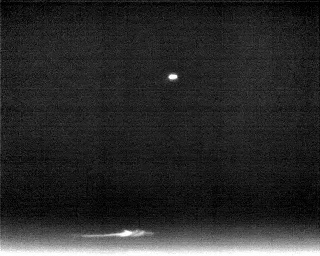AIRPLANE: (166, 71, 180, 83)
